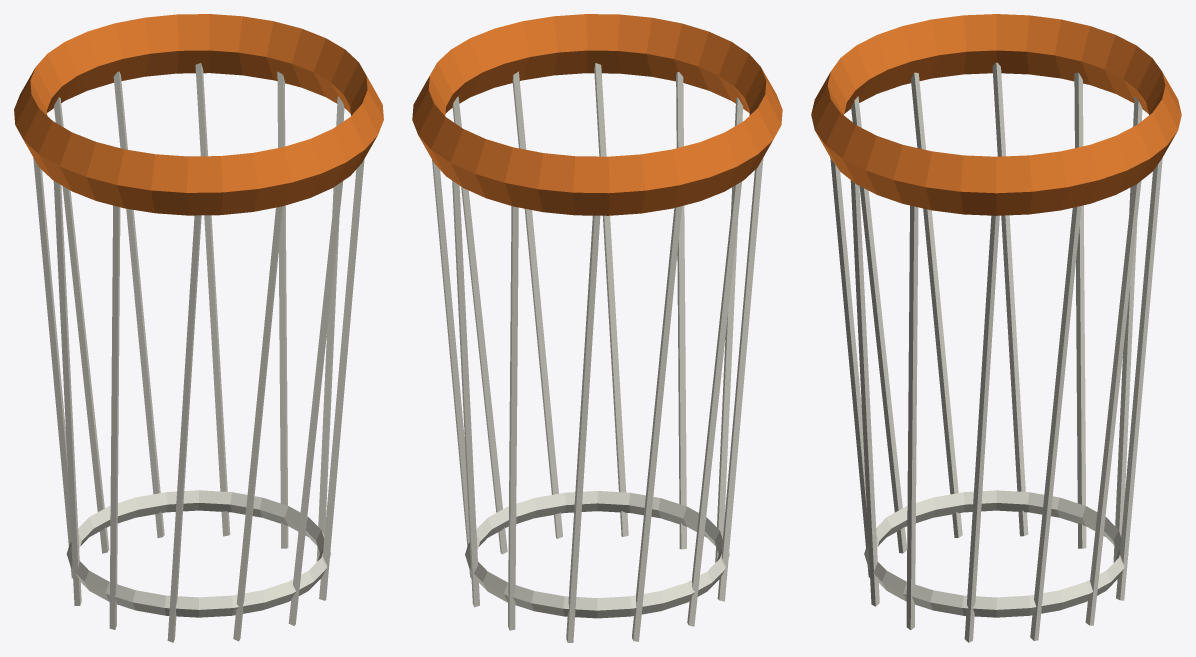
The model's file is rim.glb.
3 views of the same model, side by side, from view 1: azimuth 30°, elevation 25°; view 2: azimuth 150°, elevation 25°; view 3: azimuth 270°, elevation 25° (orthographic).
Visible parts, largest first — view 1: beret/hoop; view 2: beret/hoop; view 3: beret/hoop.
Boxes of the visible parts, x1,y1,x2,y2 form: beret/hoop: (14,14,383,642); beret/hoop: (412,14,782,642); beret/hoop: (811,14,1181,642).
Bounding box in the file's own units: 0.8 × 1.2 × 0.8.
